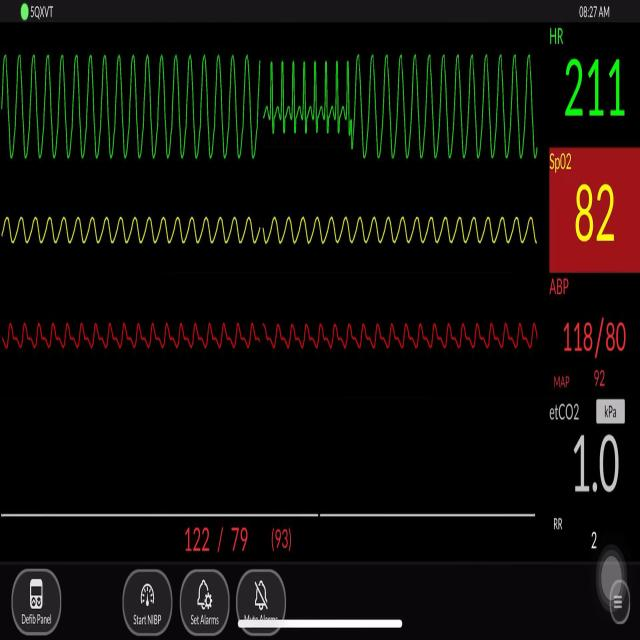danger: (10, 36, 263, 180), (367, 36, 545, 177), (270, 40, 360, 151)
